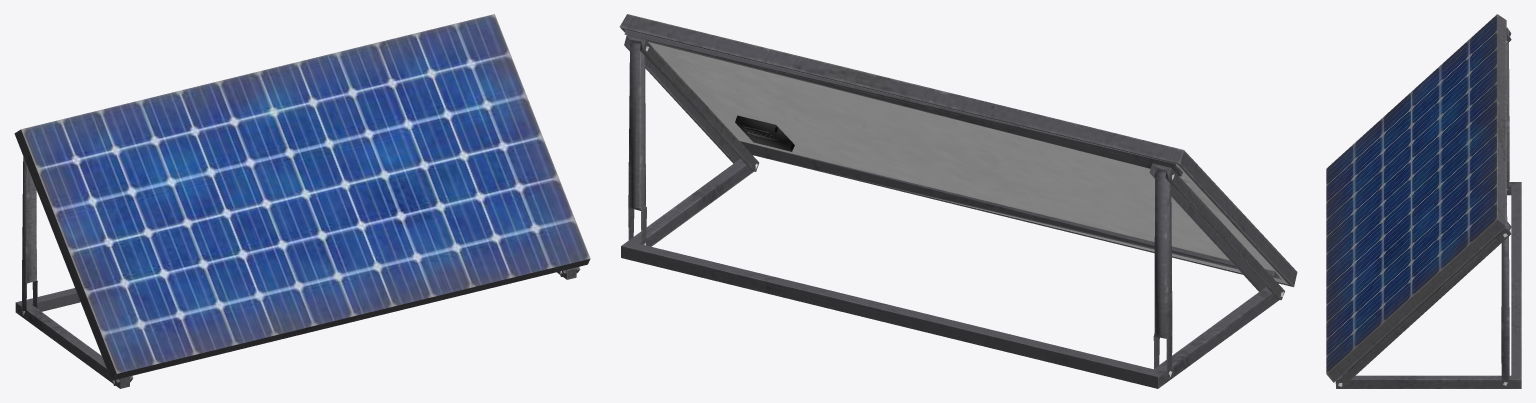
The model's file is solar_panel.glb.
The picture shows the model from 3 angles, left to right: view 1: azimuth 30°, elevation 25°; view 2: azimuth 150°, elevation 25°; view 3: azimuth 270°, elevation 25°; orthographic projection. The views are drawn at different scales.
Visible parts, largest first — view 1: solar_panel; view 2: solar_panel; view 3: solar_panel.
Part boxes in pixels (x1,y1,x2,y2): solar_panel: (14,14,590,388); solar_panel: (619,14,1297,388); solar_panel: (1326,14,1521,388).
Size of the model in its own units: 1.7 by 0.666 by 0.6795.
Materials: 1 (1 with a texture image).
